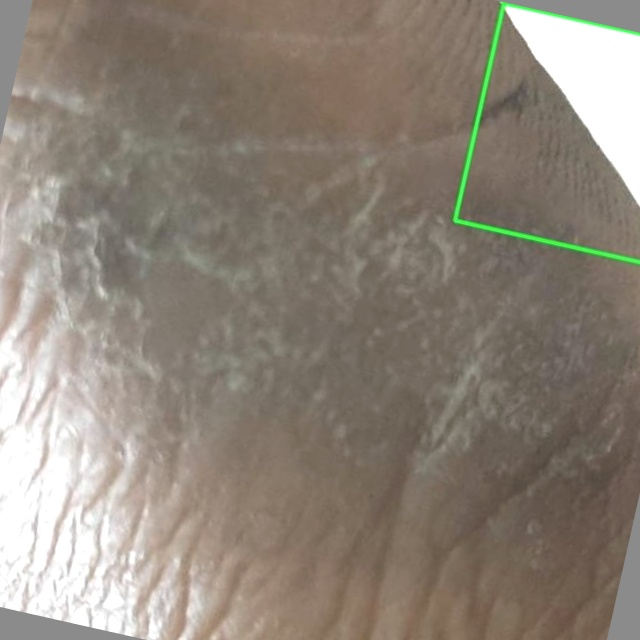Eczema: (454, 3, 639, 262)
